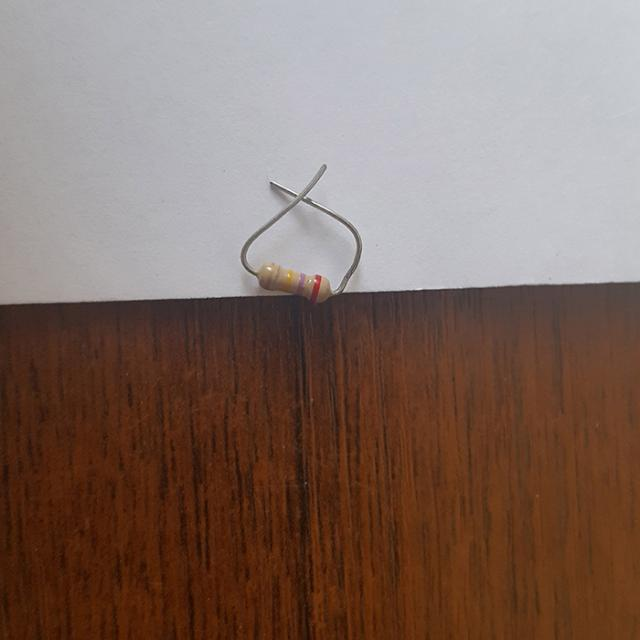gold: (266, 265, 276, 287)
red: (312, 275, 321, 300)
resistor: (240, 252, 343, 318)
violet: (298, 273, 305, 291)
yellow: (285, 270, 292, 288)
